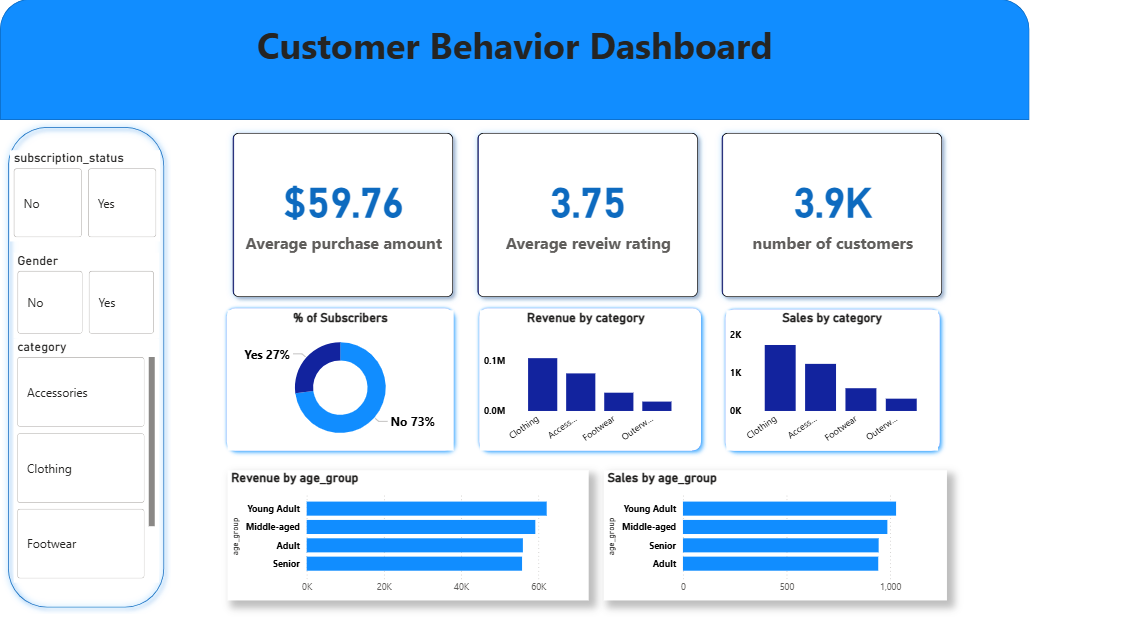

The page's visual inventory and layout, read from the dashboard file:
{"tool":"powerbi","page":{"name":"Page 1","canvas":[1500,831],"ordinal":0},"visuals":[{"type":"cardVisual","fields":{"Data":["customer_analysis cleaned_data.Average purchase amount","customer_analysis cleaned_data.Average reveiw rating","customer_analysis cleaned_data.number of customers"]},"box":[293.8,161.2,980,253.8],"z":0},{"type":"shape","box":[0,0,1372.5,161.2],"z":1000},{"type":"textbox","box":[0,23.8,1372.5,88.8],"z":2000},{"type":"shape","box":[293.8,403.8,320,207.5],"z":3000},{"type":"donutChart","title":"% of Subscribers","fields":{"Category":["customer_analysis cleaned_data.subscription_status"],"Y":["CountNonNull(customer_analysis cleaned_data.customer_id)"]},"box":[302.5,415,301.2,187.5],"z":4000},{"type":"shape","box":[630,403.8,313.8,207.5],"z":5000},{"type":"shape","box":[958.8,405,303.8,206.2],"z":6000},{"type":"clusteredColumnChart","title":"Revenue by category","fields":{"Y":["Sum(customer_analysis cleaned_data.purchase_amount)"],"Category":["customer_analysis cleaned_data.category"]},"box":[640,415,282.5,187.5],"z":7000},{"type":"clusteredColumnChart","title":"Sales by category","fields":{"Y":["CountNonNull(customer_analysis cleaned_data.purchase_amount)"],"Category":["customer_analysis cleaned_data.category"]},"box":[968.8,415,282.5,187.5],"z":8000},{"type":"shape","box":[1.2,161.2,226.2,658.8],"z":9000},{"type":"advancedSlicerVisual","fields":{"Values":["customer_analysis cleaned_data.subscription_status"]},"box":[12.5,201.2,200,121.2],"z":10000},{"type":"advancedSlicerVisual","title":"Gender","fields":{"Values":["customer_analysis cleaned_data.subscription_status"]},"box":[18.8,338.8,193.8,113.8],"z":11000},{"type":"advancedSlicerVisual","fields":{"Values":["customer_analysis cleaned_data.category"]},"box":[18.8,452.5,193.8,325],"z":12000},{"type":"clusteredBarChart","title":"Revenue by age_group","fields":{"Y":["Sum(customer_analysis cleaned_data.purchase_amount)"],"Category":["customer_analysis cleaned_data.age_group"]},"box":[302.5,628.8,481.2,173.8],"z":12001},{"type":"clusteredBarChart","title":"Sales by age_group","fields":{"Y":["CountNonNull(customer_analysis cleaned_data.customer_id)"],"Category":["customer_analysis cleaned_data.age_group"]},"box":[805,628.8,457.5,173.8],"z":12004}]}

Visuals, with their boxes in screenshot pixels (x1, y1, x2, y2), scaled from the page's 1500x831 canvas onto the 1123x618 screenshot:
cardVisual - customer_analysis cleaned_data.Average purchase amount x customer_analysis cleaned_data.Average reveiw rating: box(220, 120, 954, 309)
shape: box(0, 0, 1028, 120)
textbox: box(0, 18, 1028, 84)
shape: box(220, 300, 460, 455)
"% of Subscribers" donutChart: box(226, 309, 452, 448)
shape: box(472, 300, 707, 455)
shape: box(718, 301, 945, 455)
"Revenue by category" clusteredColumnChart: box(479, 309, 691, 448)
"Sales by category" clusteredColumnChart: box(725, 309, 937, 448)
shape: box(1, 120, 170, 610)
advancedSlicerVisual - customer_analysis cleaned_data.subscription_status: box(9, 150, 159, 240)
"Gender" advancedSlicerVisual: box(14, 252, 159, 337)
advancedSlicerVisual - customer_analysis cleaned_data.category: box(14, 337, 159, 578)
"Revenue by age_group" clusteredBarChart: box(226, 468, 587, 597)
"Sales by age_group" clusteredBarChart: box(603, 468, 945, 597)
